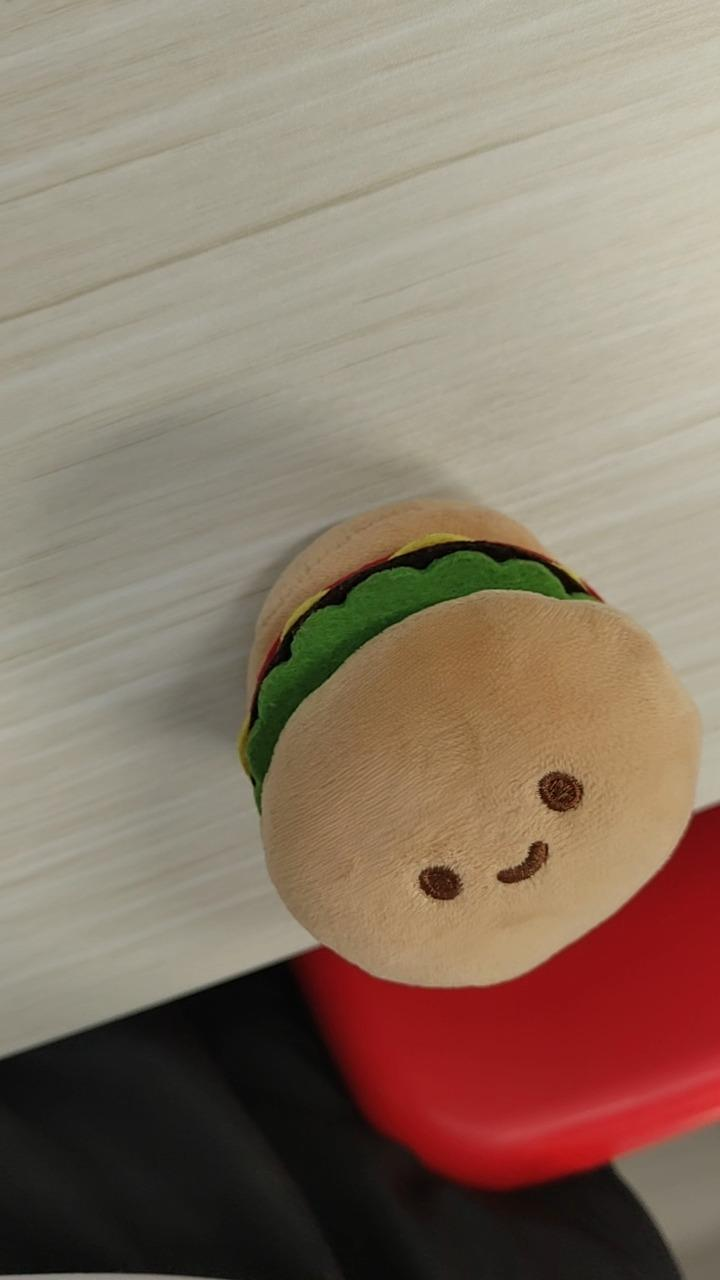hamburger: (236, 494, 717, 1190)
